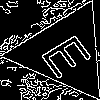E: (39, 27, 100, 80)
